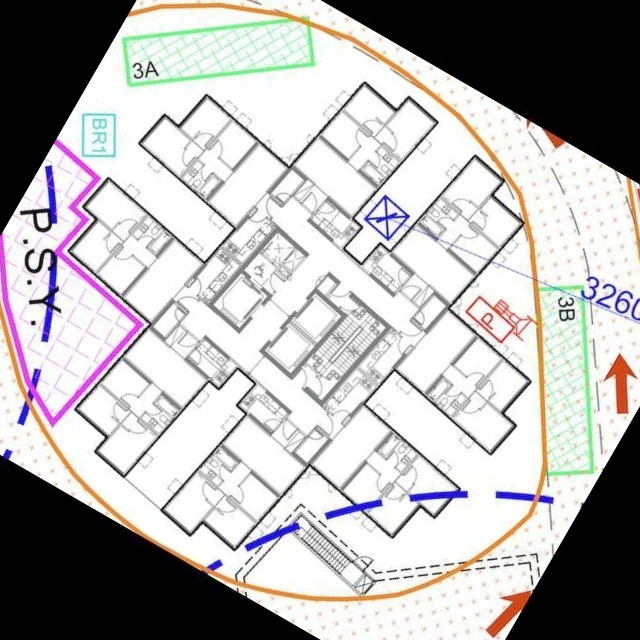tower_crane: (366, 194, 410, 242)
